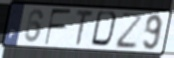6: (24, 8, 45, 44)
9: (142, 13, 164, 51)
D: (89, 10, 121, 50)
F: (44, 8, 73, 47)
T: (74, 8, 95, 48)
Z: (115, 12, 145, 51)
